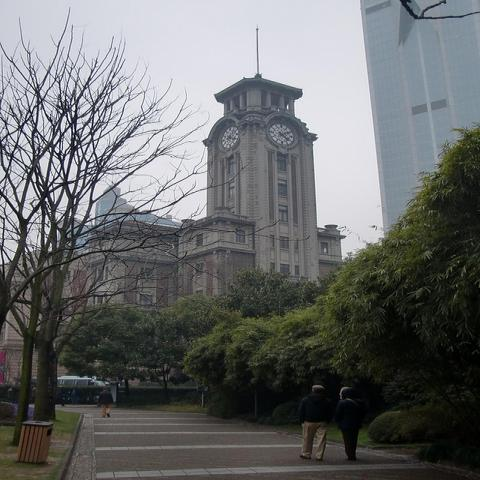car: (57, 378, 98, 386)
